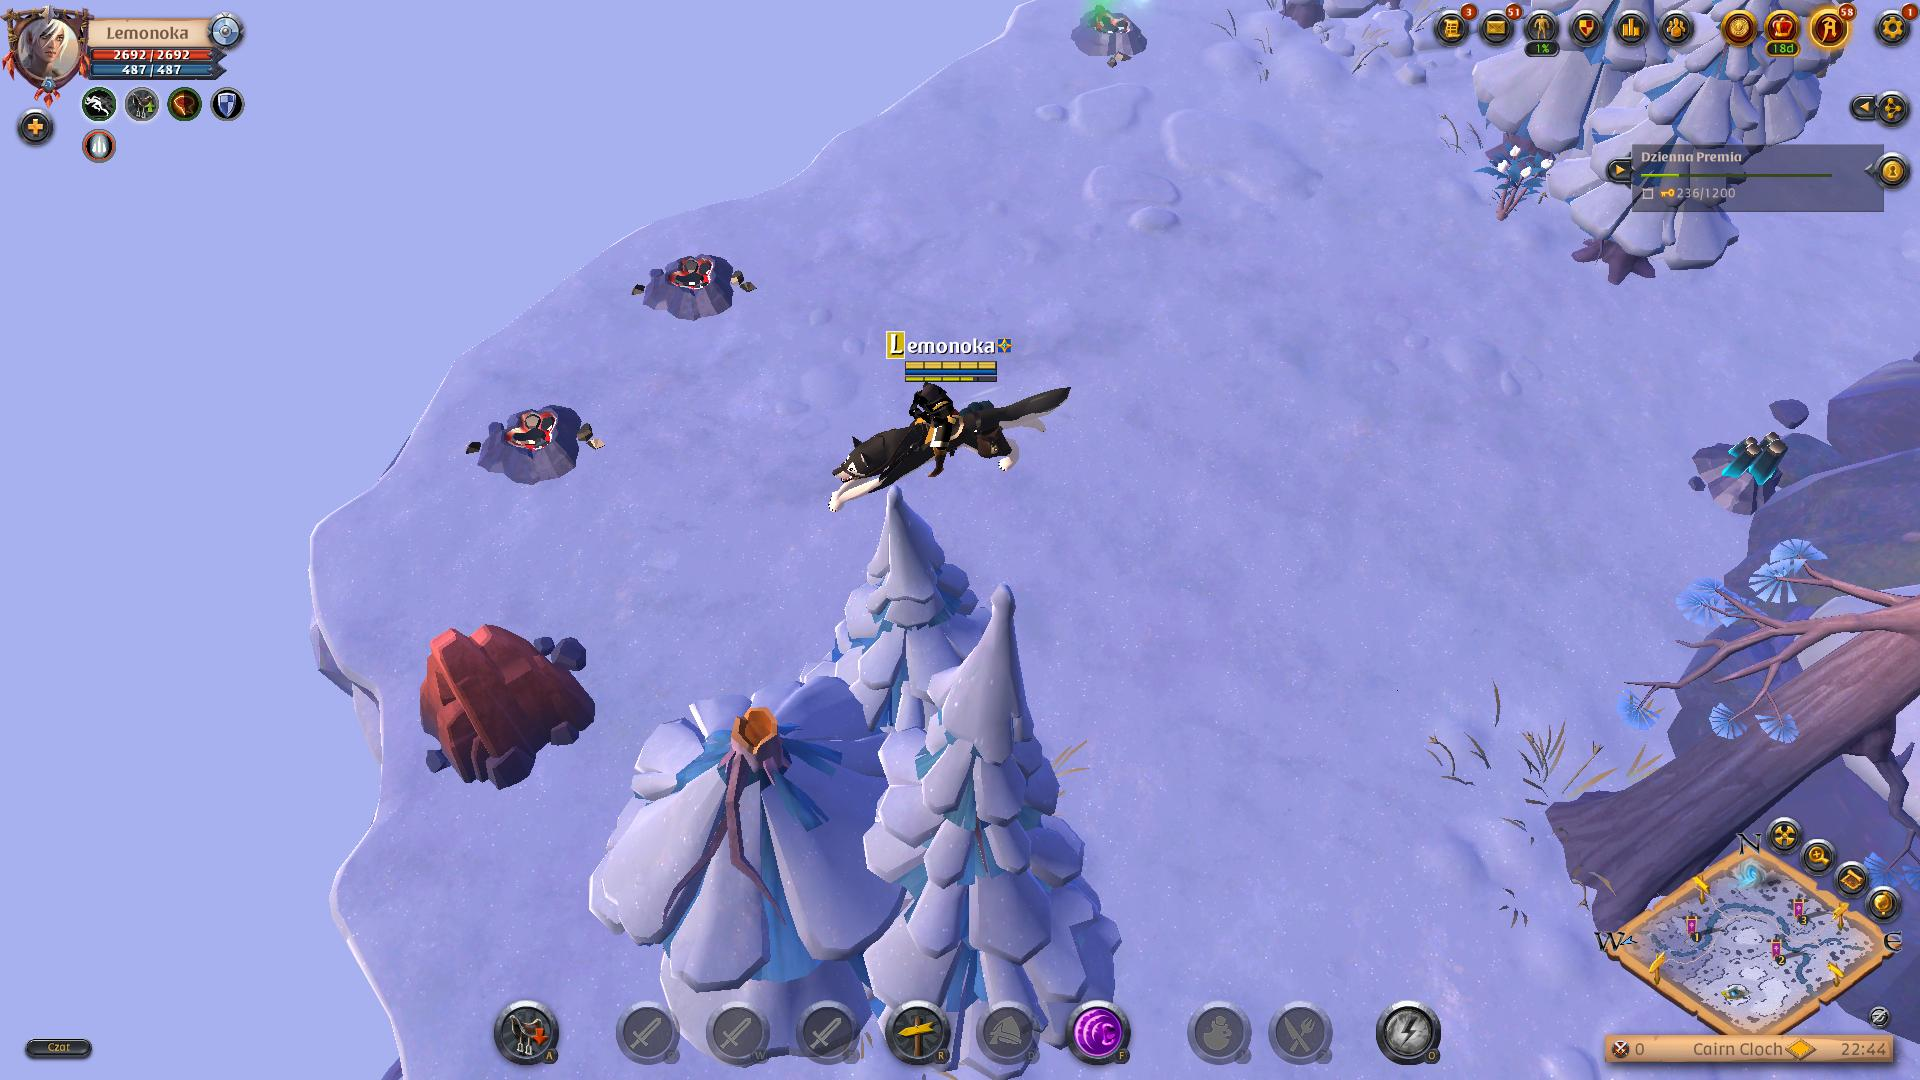fiber tier 4: (1480, 141, 1560, 228)
ore tier 4: (1701, 425, 1796, 521)
rock tier 5: (402, 616, 597, 789)
